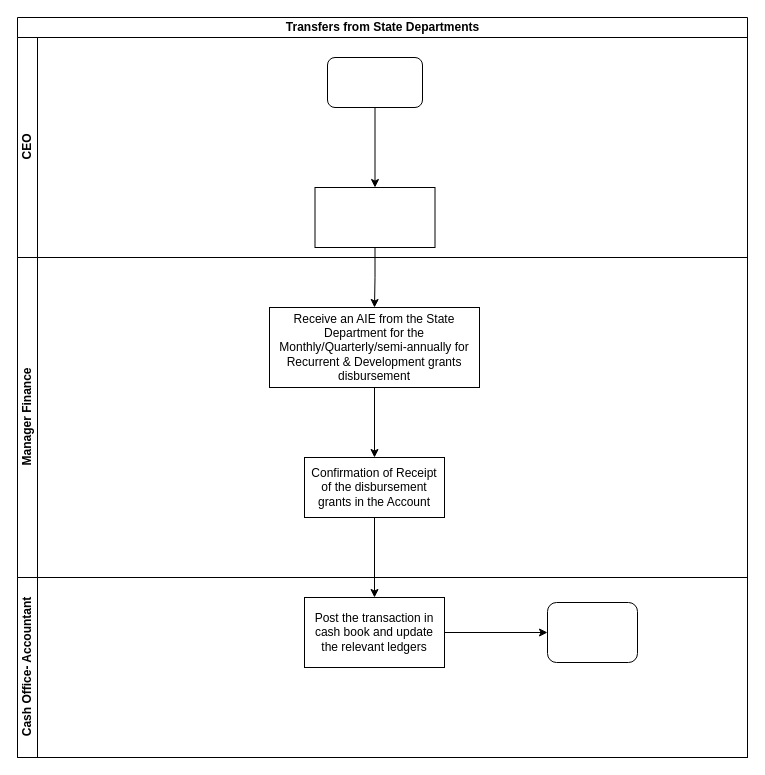
Some shapes in this 765 by 775 pixel diagram are drawn without their labels. Each missing label, with the centre of its shape:
End: (x=592, y=632)
Receive Budgetary Allocation from the Ministry: (x=374, y=217)
Start: (x=374, y=82)
